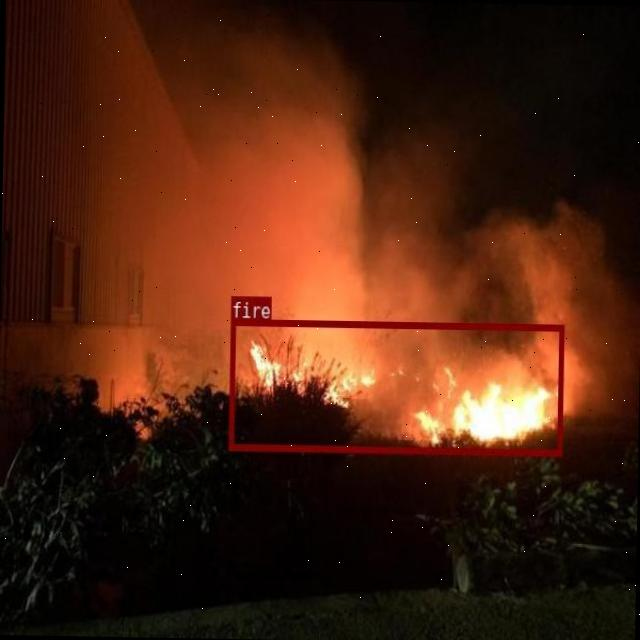fire: (228, 318, 563, 454)
